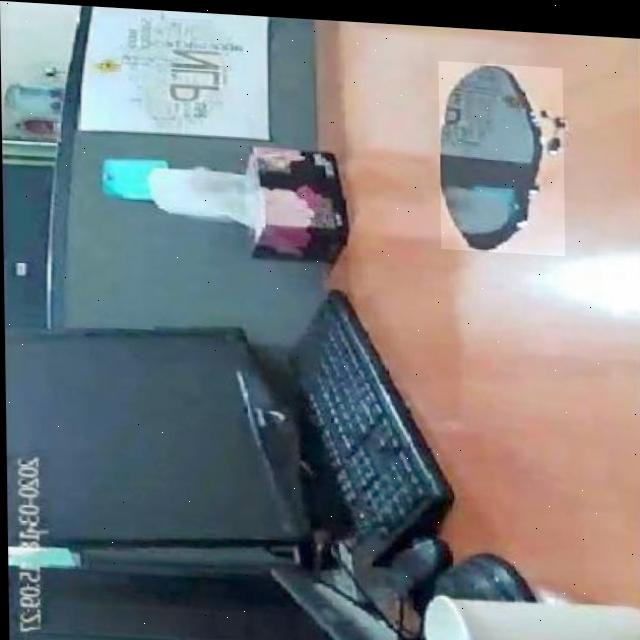spillage: (440, 57, 562, 245)
